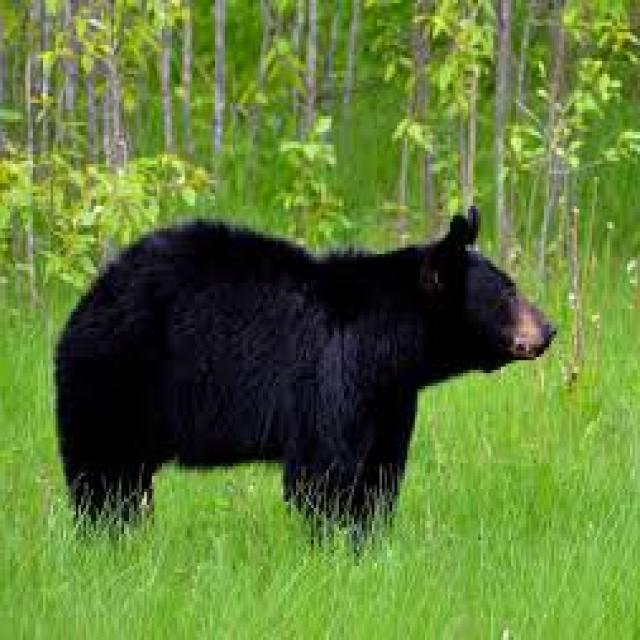bear: (56, 206, 557, 540)
